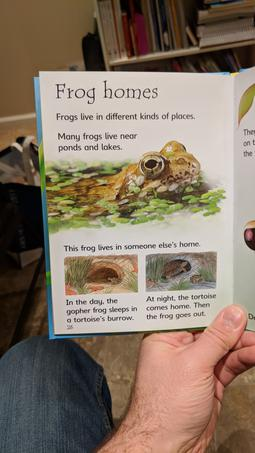text block: (46, 79, 163, 108), (142, 288, 220, 325), (62, 292, 140, 327), (46, 124, 139, 153), (60, 235, 206, 252), (52, 106, 202, 122)
